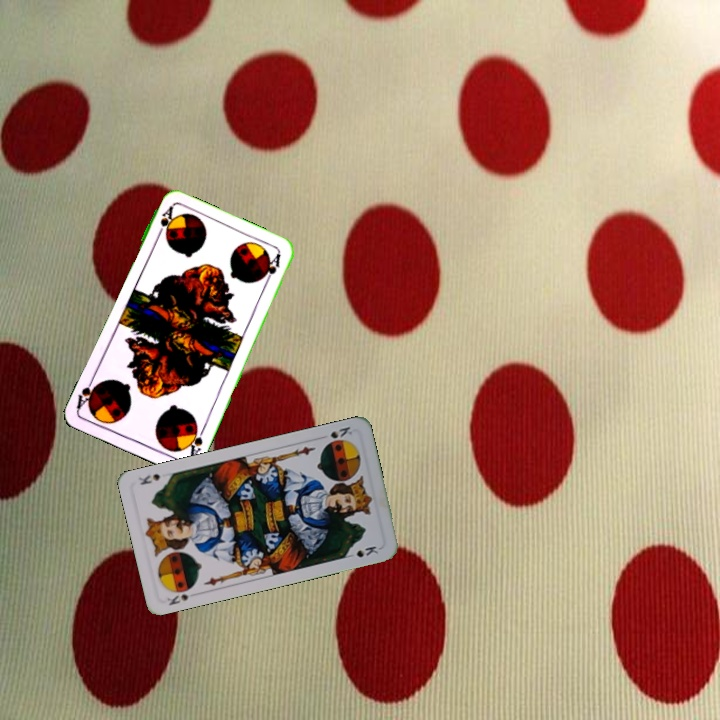SA: (183, 421, 207, 462), (153, 202, 176, 241)
SK: (320, 422, 355, 447), (163, 588, 200, 608)
